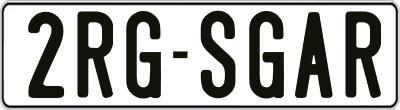2: (27, 10, 63, 97)
A: (294, 11, 335, 101)
G: (126, 11, 167, 104), (248, 10, 288, 100)
R: (75, 9, 114, 98), (345, 8, 383, 96)
S: (198, 10, 237, 103)
